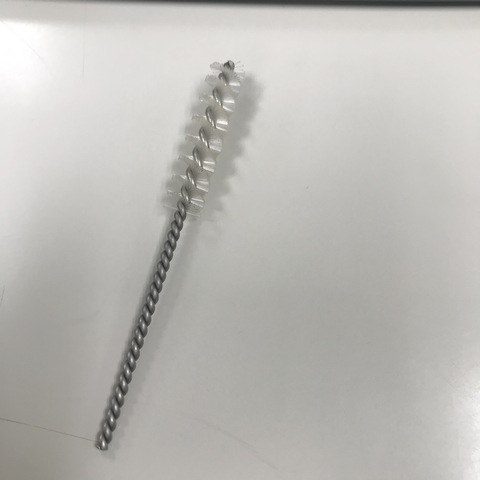Twist Brush-B: (93, 60, 254, 451)
